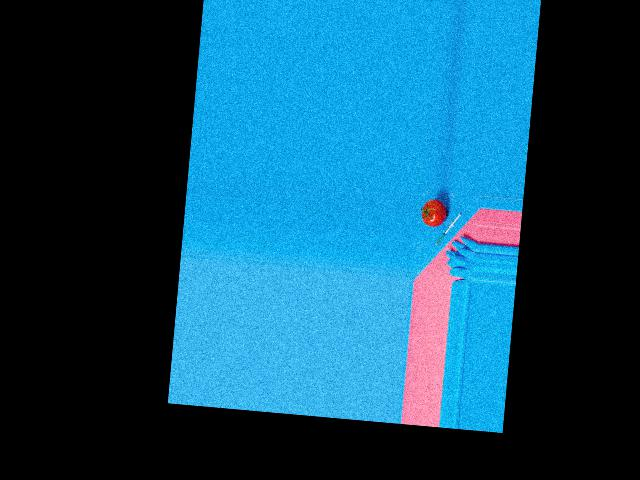tomato: (421, 199, 448, 228)
